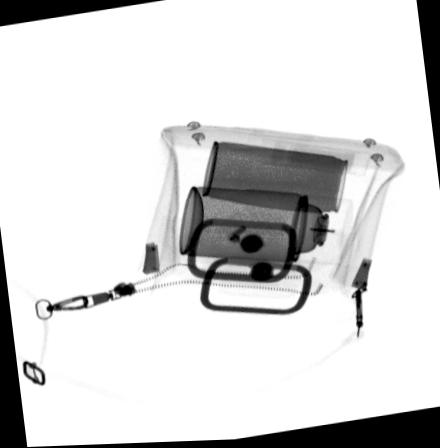Sprayer: (177, 185, 355, 269)
